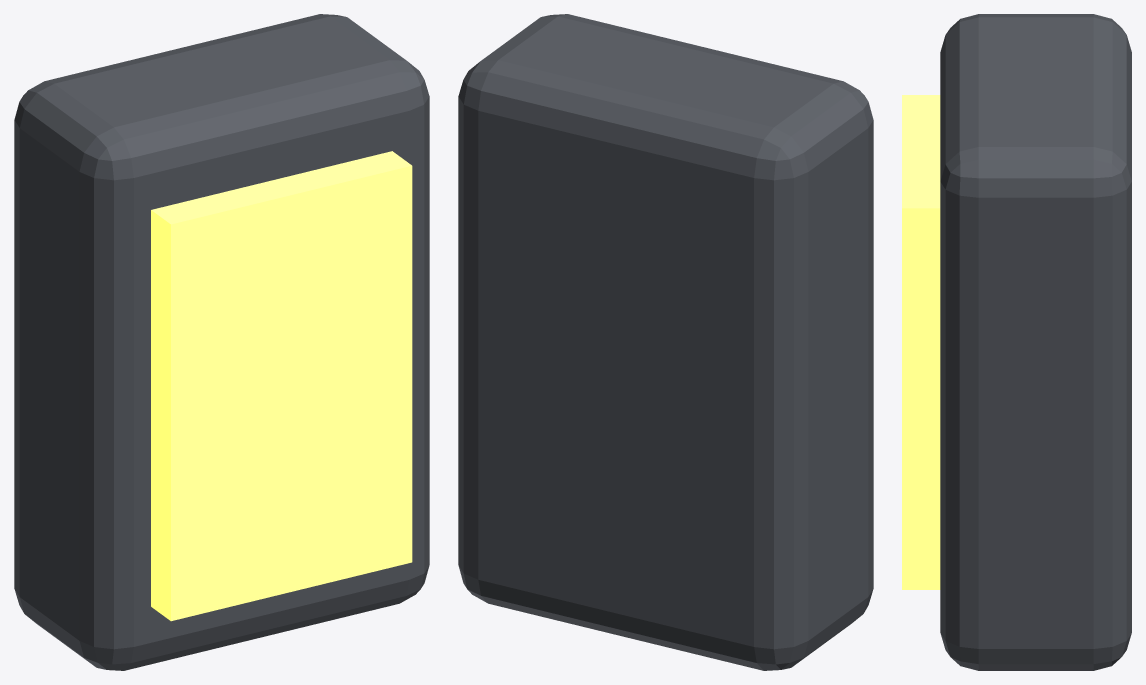
Rendered from wall_light_box_sconce.glb.
The picture shows the model from 3 angles, left to right: view 1: azimuth 30°, elevation 25°; view 2: azimuth 150°, elevation 25°; view 3: azimuth 270°, elevation 25°; orthographic projection. The views are drawn at different scales.
Parts seen in each view (by area): view 1: GD_wall_light_box_sconce__m0, GD_wall_light_box_sconce__m1; view 2: GD_wall_light_box_sconce__m0; view 3: GD_wall_light_box_sconce__m0, GD_wall_light_box_sconce__m1.
Boxes of the visible parts, x1=… form: GD_wall_light_box_sconce__m0: x1=14, y1=14, x2=429, y2=670; GD_wall_light_box_sconce__m1: x1=151, y1=151, x2=412, y2=621; GD_wall_light_box_sconce__m0: x1=458, y1=14, x2=873, y2=670; GD_wall_light_box_sconce__m0: x1=940, y1=14, x2=1131, y2=670; GD_wall_light_box_sconce__m1: x1=902, y1=95, x2=940, y2=589.
Bounding box in the file's own units: 0.2 × 0.3 × 0.12.
